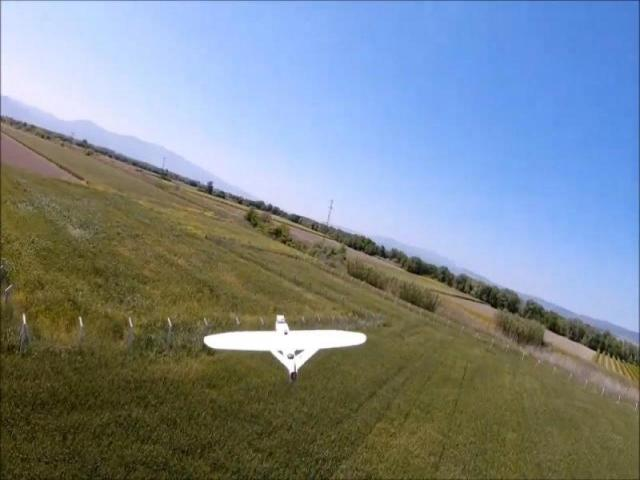hedef: (199, 302, 379, 387)
